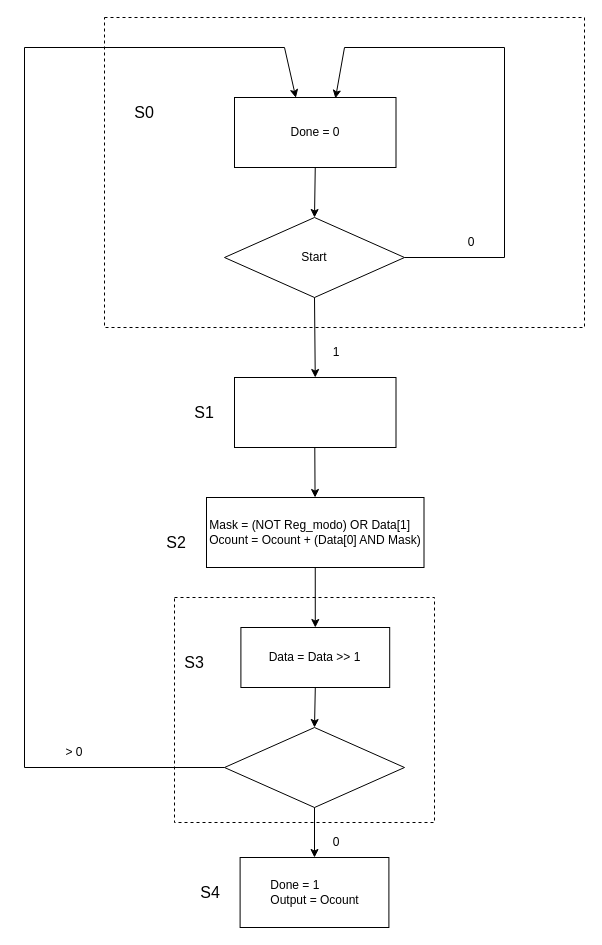
Image size: 602x945. Some labels were removed from this diagram. The shapes that lost their labels are listed below. From the top down, each one's centre as x and y in pixels, then its label:
point 315,412: Data = Inport Reg_modo = modo Mask = 1 Ocount = 0
point 314,767: Data
